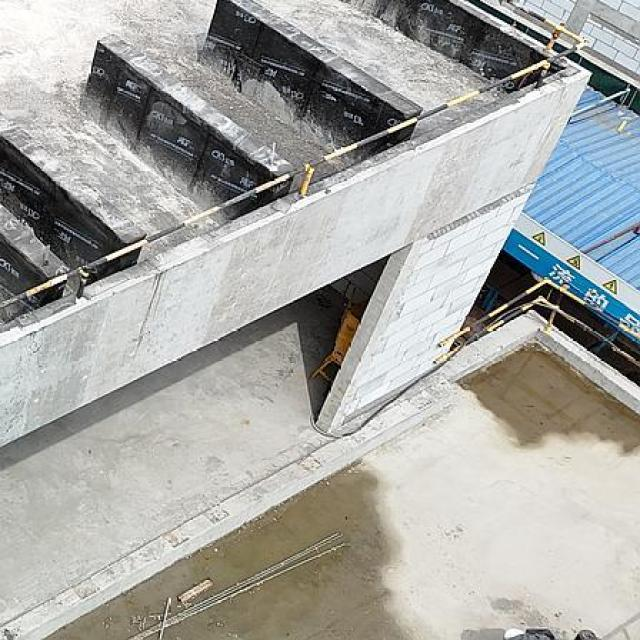edge_guardrail: (0, 0, 594, 313), (433, 276, 640, 368)
